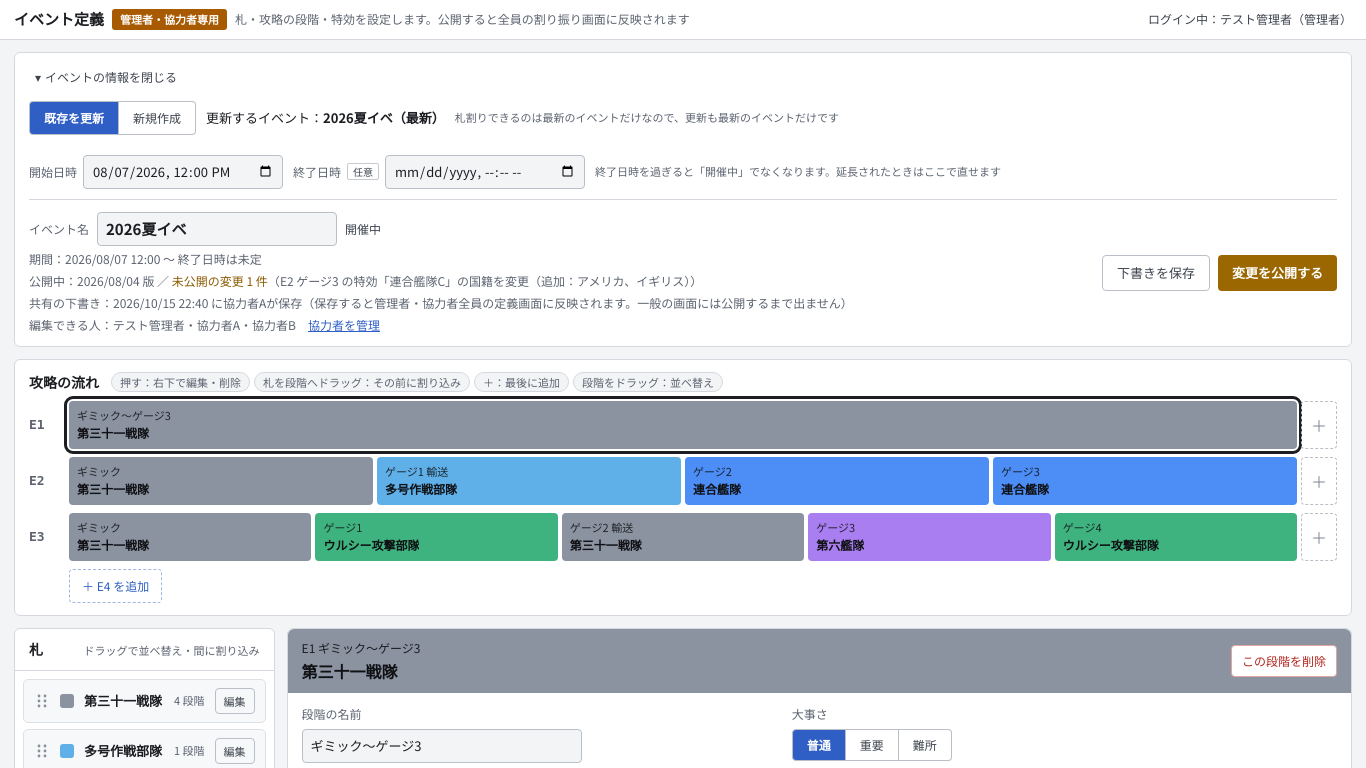
Test case: イベント定義の画面（PlanEditor）：特効グループの国籍（v1.1） › 国籍のタグ › 国籍を持つグループは、艦名のタグの下に、国籍のタグ（表示名）を文書の順に出す
Check: the element "攻略の流れ" is shown, box x1=14 y1=358 x2=1352 y2=616
Click the button "ゲージ3 連合艦隊" at point(1020, 470), box x1=993 y1=456 x2=1297 y2=504
(page scrolled)
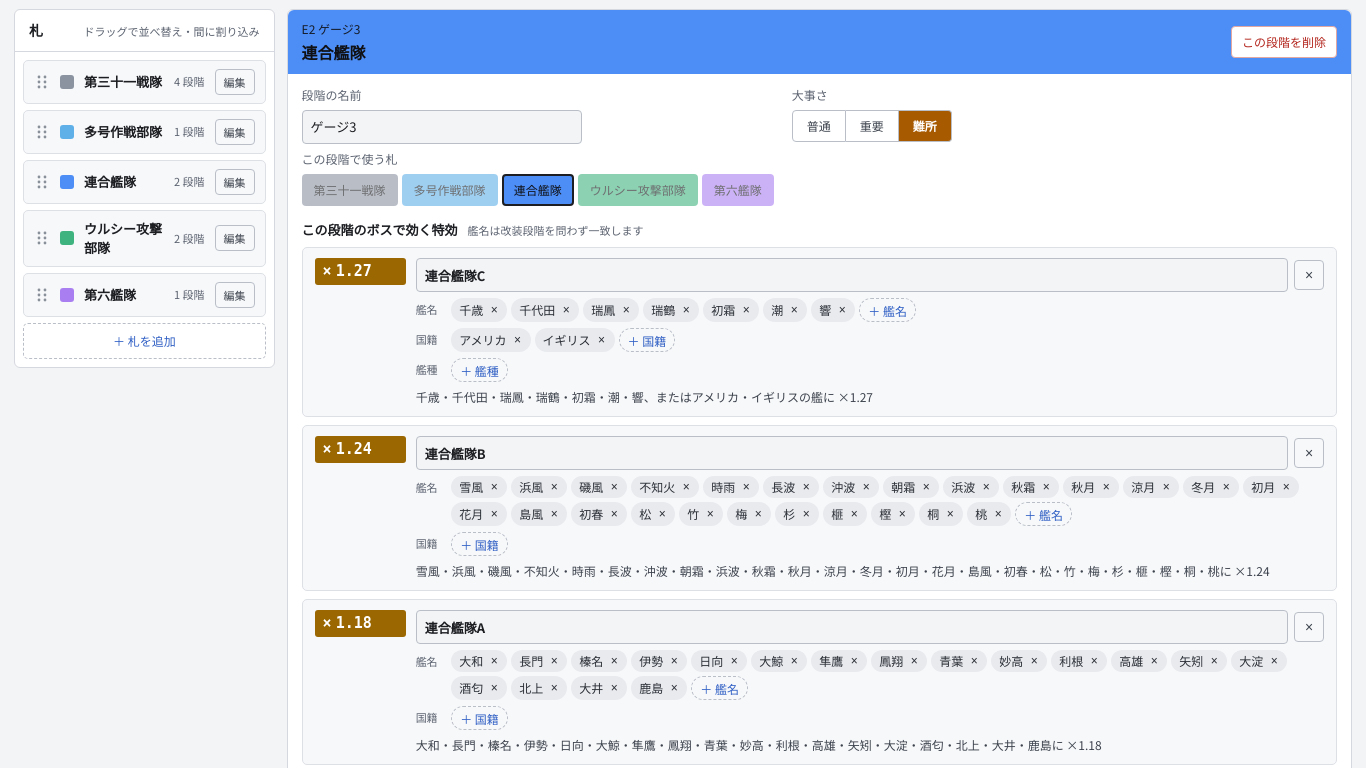
Check: the list "国籍" is shown, box x1=451 y1=328 x2=675 y2=352
Check: the text "アメリカ" is shown, box x1=459 y1=331 x2=506 y2=349
